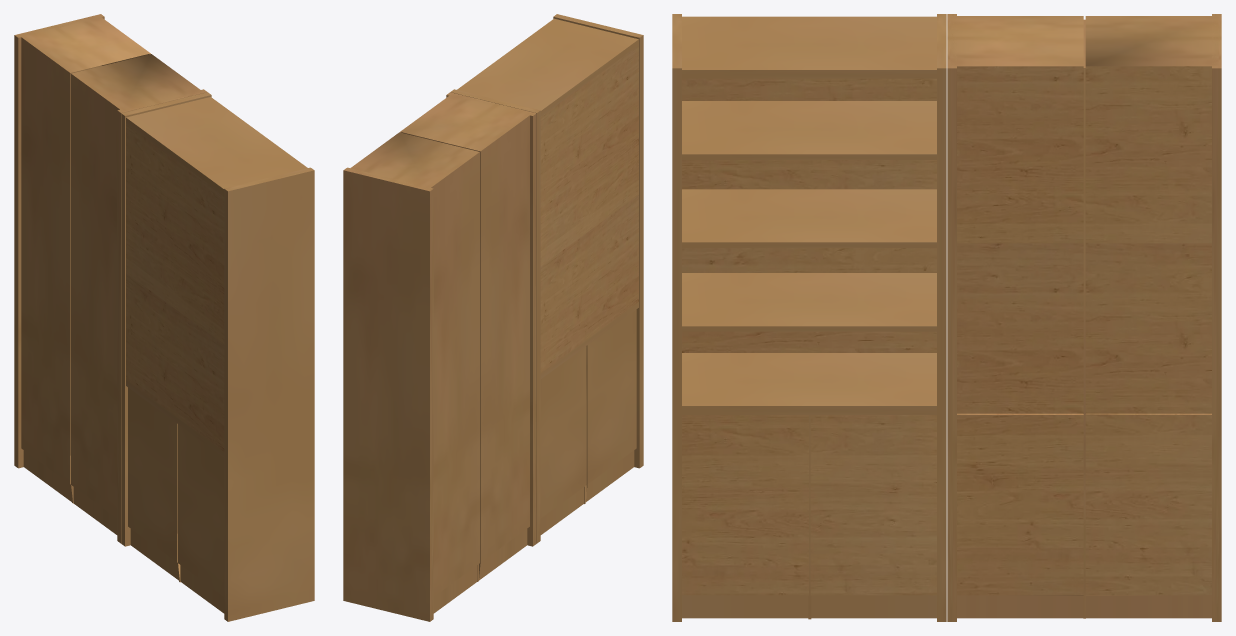
File: shaf_mast.fbx
3 views of the same model, side by side, from view 1: azimuth 30°, elevation 25°; view 2: azimuth 150°, elevation 25°; view 3: azimuth 270°, elevation 25° (orthographic). The views are drawn at different scales.
Parts seen in each view (by area): view 1: shaf_mast; view 2: shaf_mast; view 3: shaf_mast.
Part boxes in pixels (x1,y1,x2,y2): shaf_mast: (14, 14, 314, 621); shaf_mast: (343, 14, 643, 621); shaf_mast: (672, 14, 1221, 621).
Size of the model in its own units: 0.2861 by 1.36 by 1.22.
